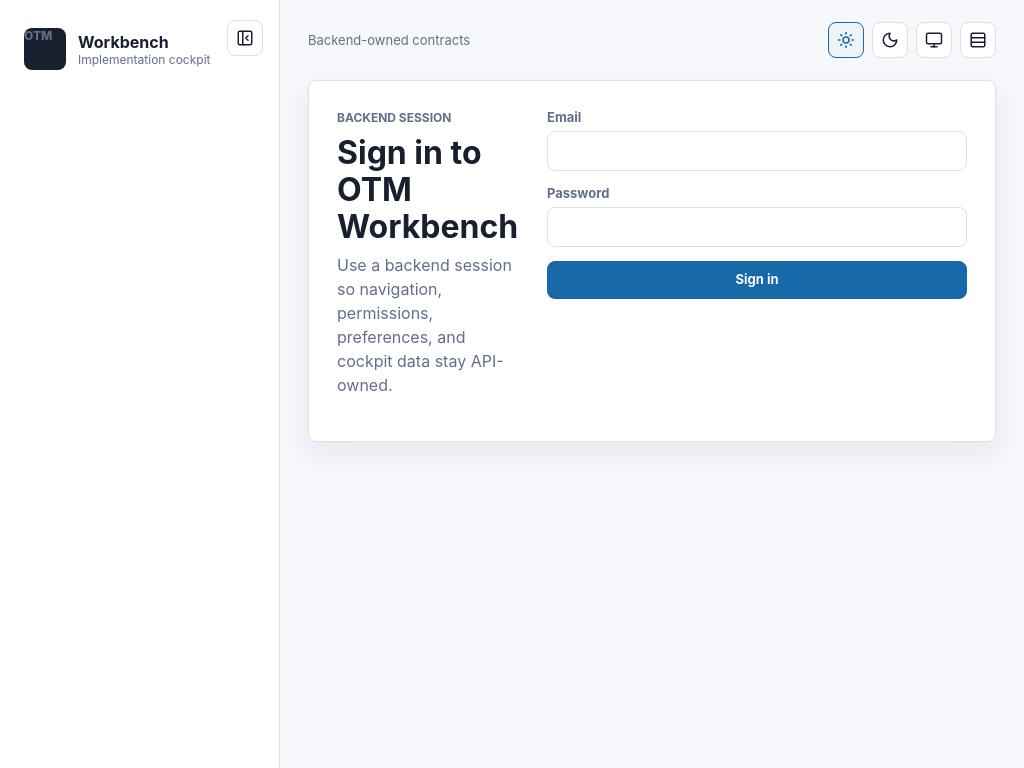
it: Functional Load Plan journey › recovers package operation routes from direct URLs
Type "admin@example.test" into the field labelled "Email" at (757,151), box [547,131,967,171]
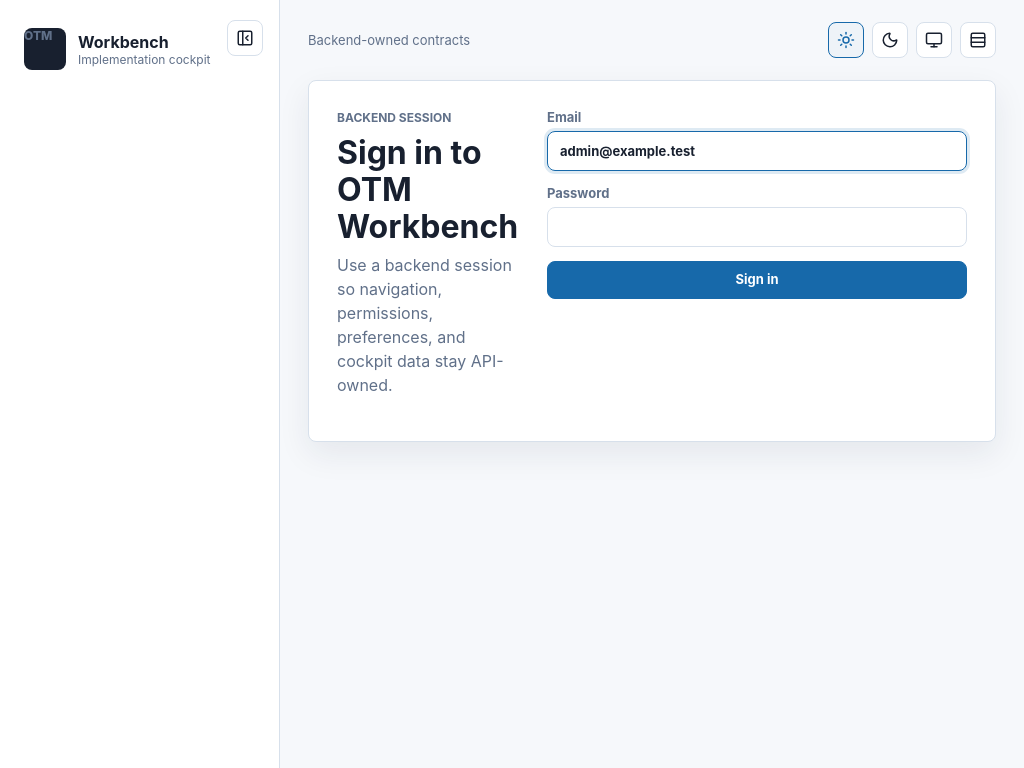
Type "SyntheticPass123!" into the password field labelled "Password" at (757,227), box [547,207,967,247]
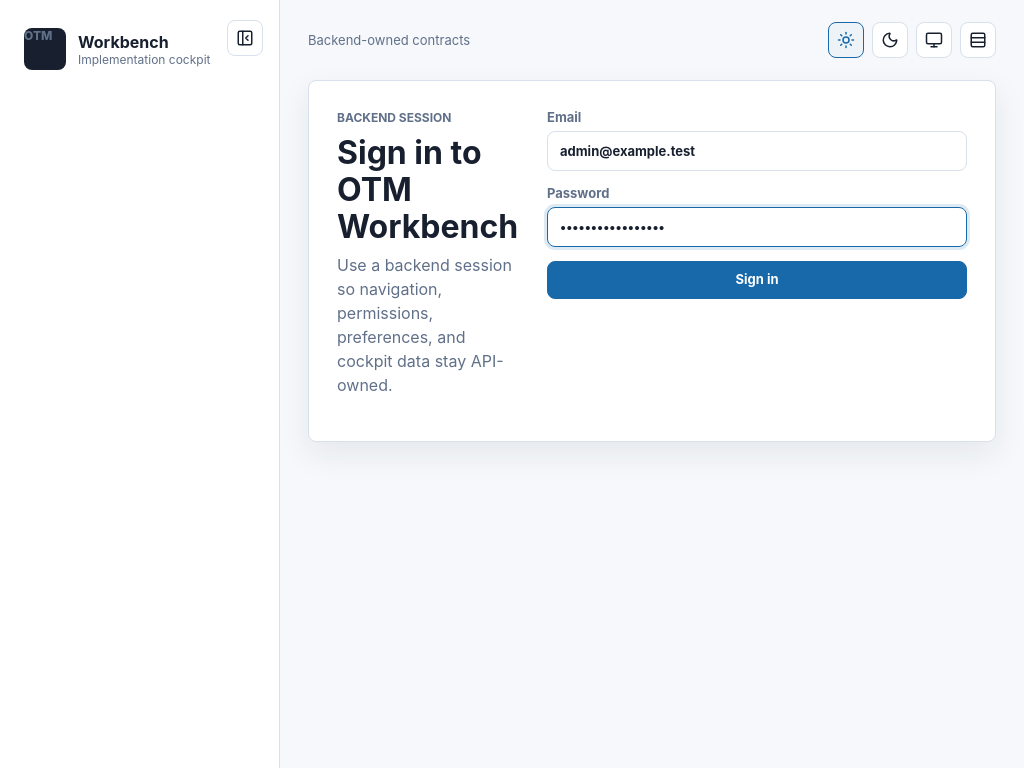
Click the button "Sign in" at (757,280), box [547,261,967,299]
(page scrolled)
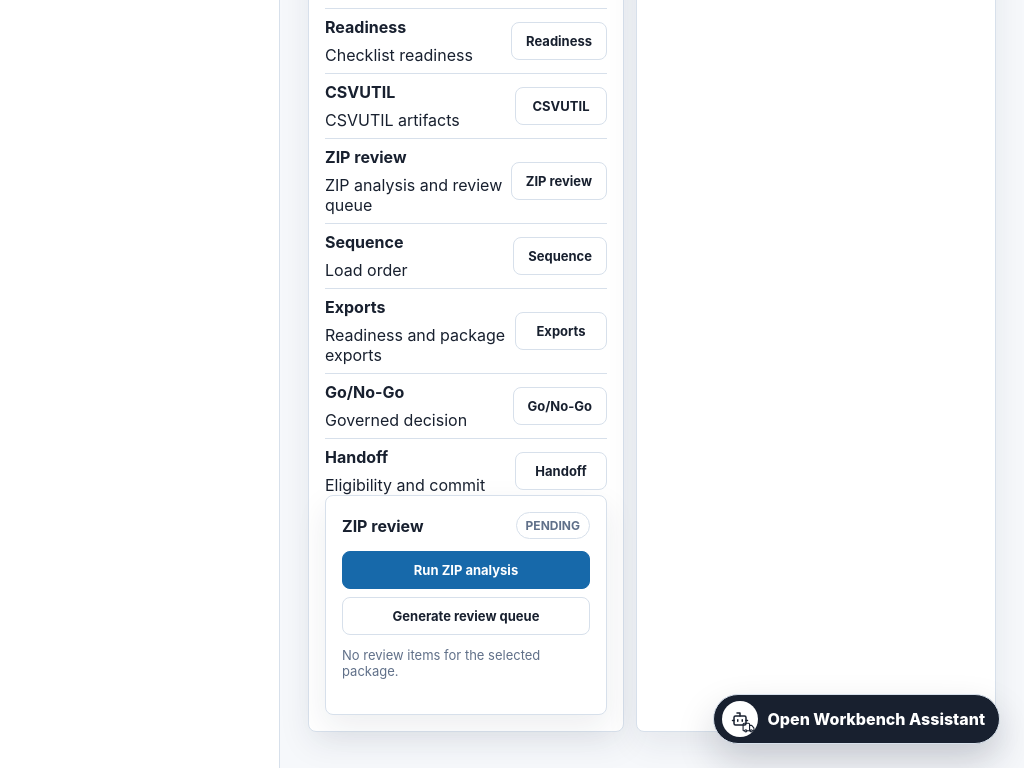
Check: the element named "ZIP analysis and review queue" is shown, box [325,495,607,715]
Check: the element named "Load Plan route destinations" shows "Readiness", box [325,17,406,37]
Check: the element named "Load Plan route destinations" shows "CSVUTIL", box [325,82,395,102]
Click the link "Handoff" at (561,471), box [515,452,607,490]
(page scrolled)
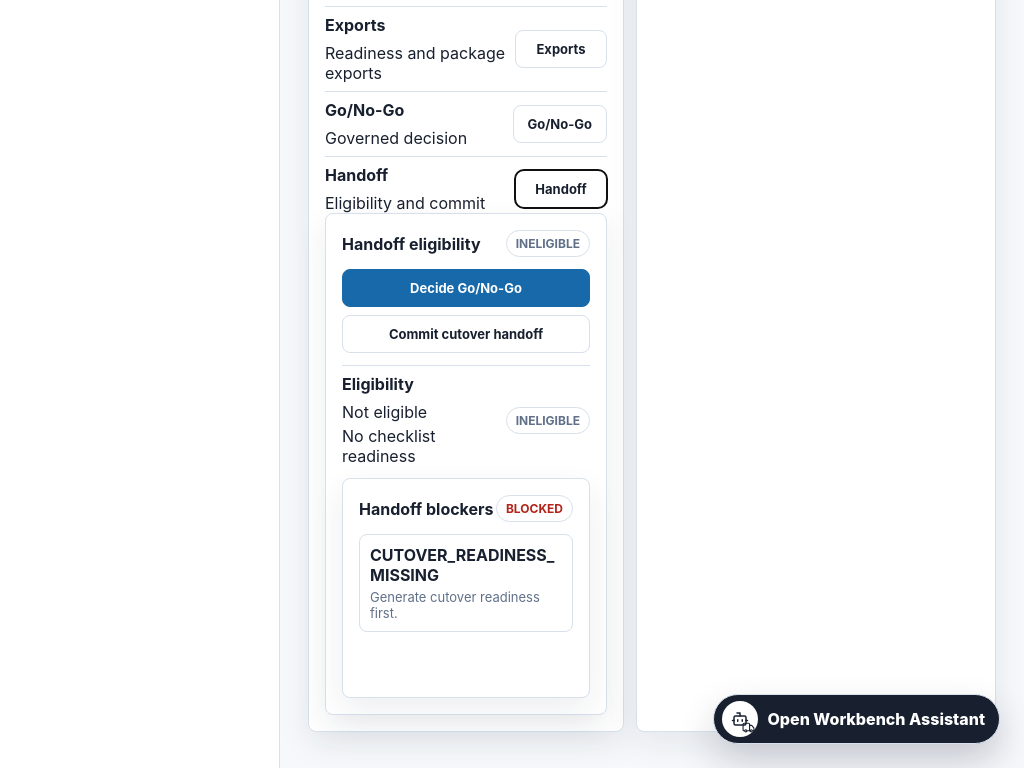
Check: the element named "Cutover handoff eligibility" shows "CUTOVER_READINESS_MISSING", box [370,545,554,585]
